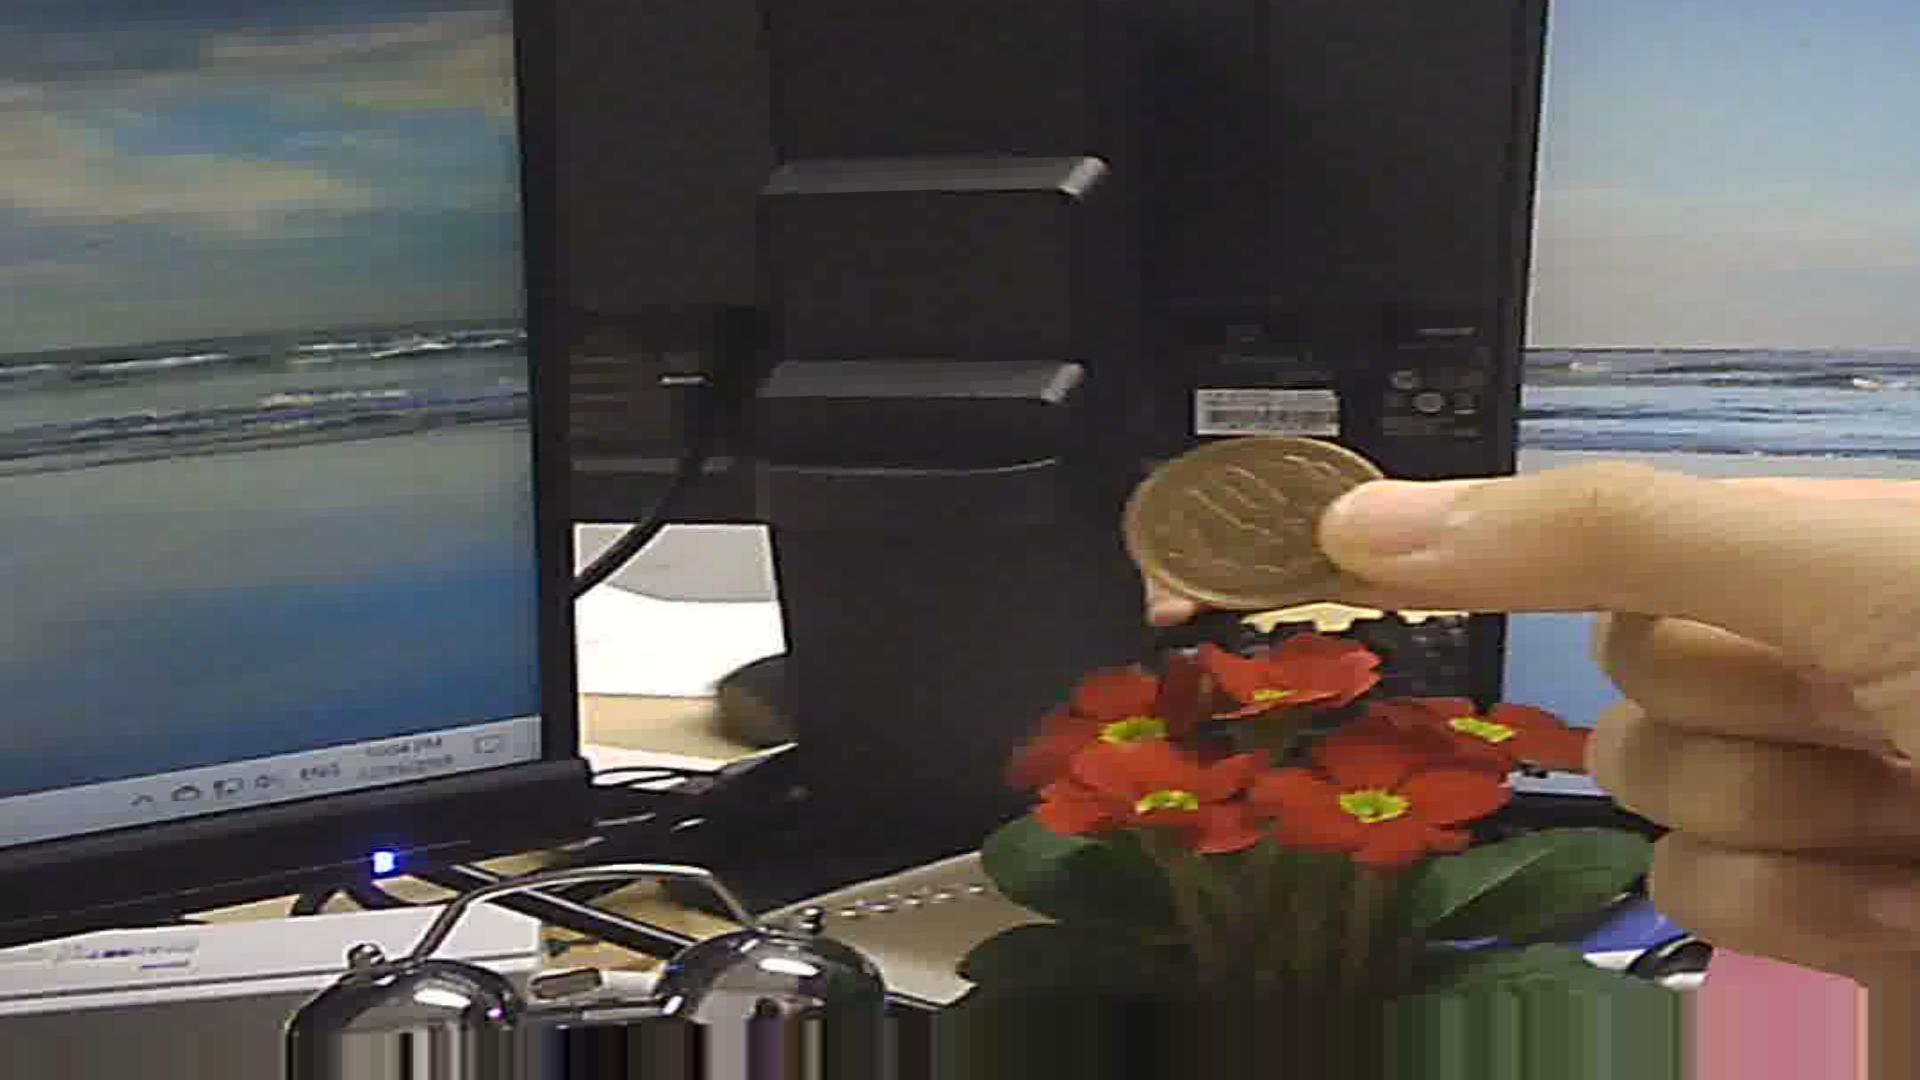10 Yen: (1124, 430, 1395, 615)
